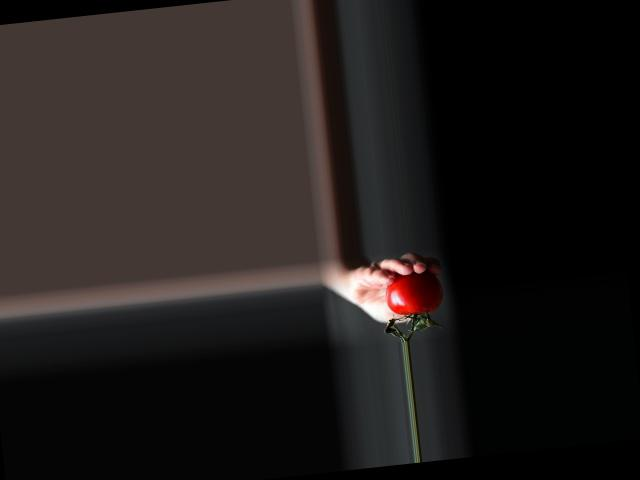tomato: (383, 268, 444, 318)
